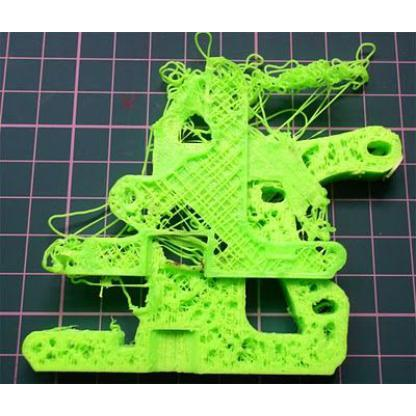fail: (243, 30, 377, 127), (153, 50, 229, 112), (163, 205, 207, 269)
